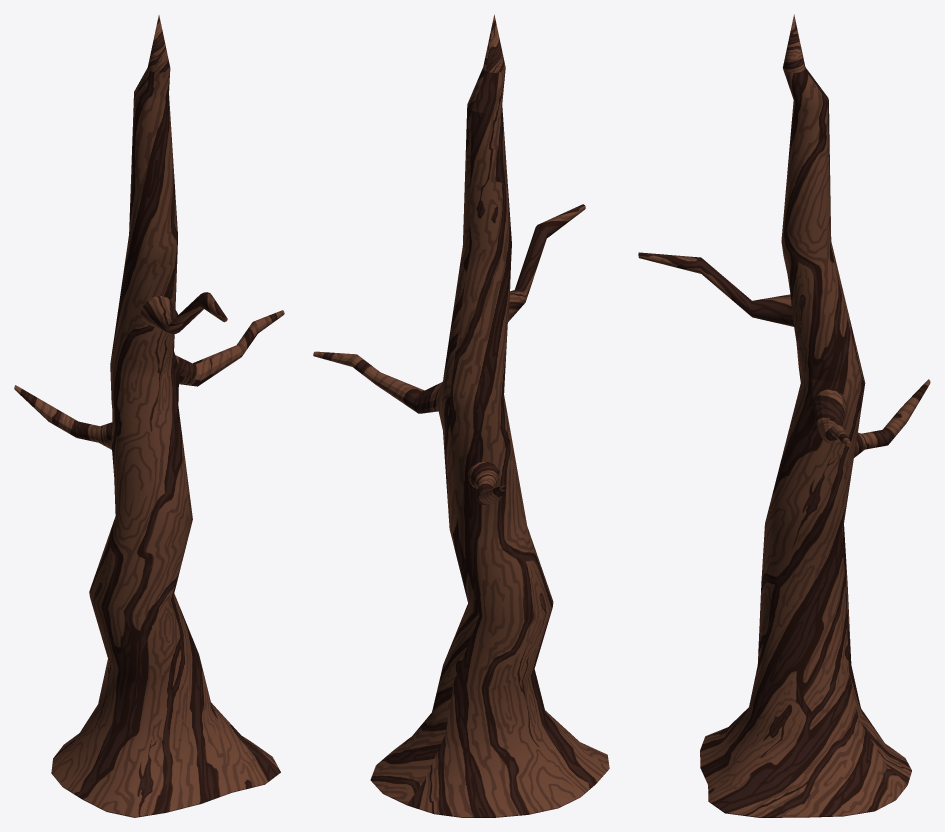
Rendered from Tree 7.fbx.
The picture shows the model from 3 angles, left to right: view 1: azimuth 30°, elevation 25°; view 2: azimuth 150°, elevation 25°; view 3: azimuth 270°, elevation 25°; orthographic projection.
Visible parts, largest first — view 1: Pines_6; view 2: Pines_6; view 3: Pines_6.
Boxes of the visible parts, x1=… form: Pines_6: x1=14, y1=15, x2=284, y2=817; Pines_6: x1=313, y1=14, x2=609, y2=817; Pines_6: x1=638, y1=14, x2=930, y2=817.
Bounding box in the file's own units: 6.03 × 17.9 × 6.26.
